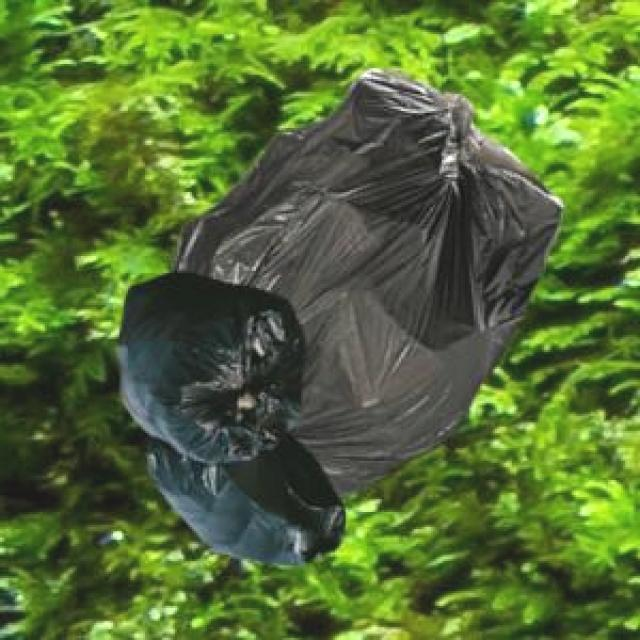Trashbag: (288, 71, 556, 467), (113, 269, 303, 458), (146, 440, 354, 572)
